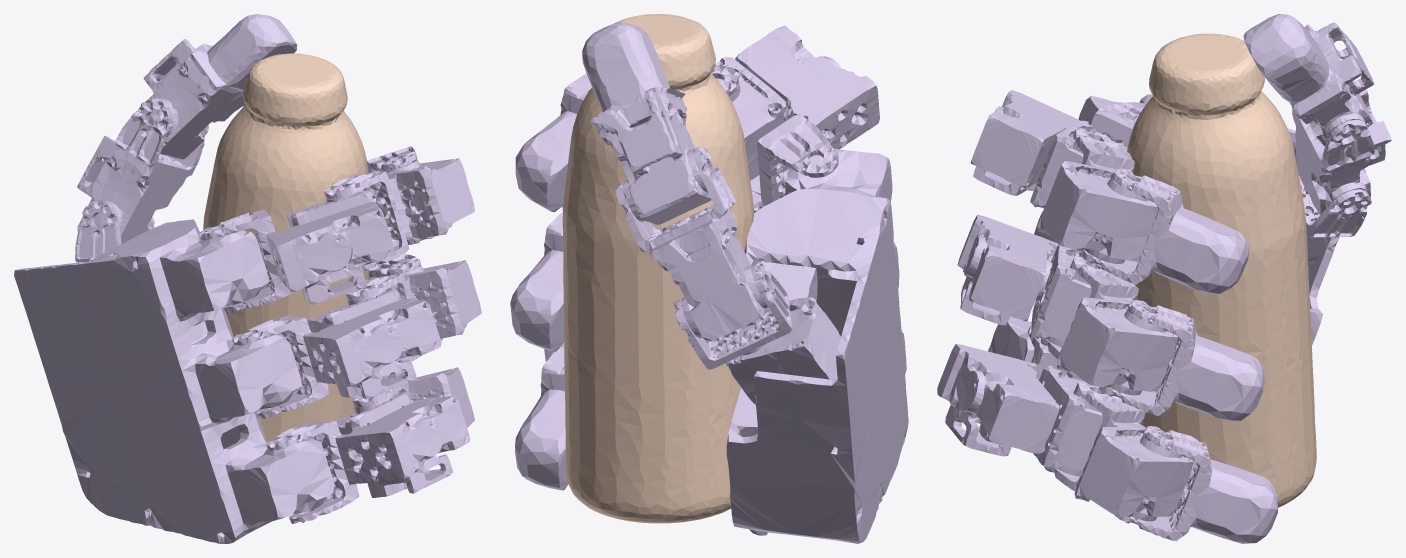
The picture shows the model from 3 angles, left to right: view 1: azimuth 30°, elevation 25°; view 2: azimuth 150°, elevation 25°; view 3: azimuth 270°, elevation 25°; orthographic projection. The views are drawn at different scales.
Parts seen in each view (by area): view 1: LEAP_hand, world; view 2: LEAP_hand, world; view 3: LEAP_hand, world.
Part boxes in pixels (<box>): LEAP_hand: <box>14,14,481,543</box>; world: <box>203,53,369,441</box>; LEAP_hand: <box>510,22,908,543</box>; world: <box>562,14,753,523</box>; LEAP_hand: <box>937,14,1391,543</box>; world: <box>1127,33,1316,507</box>.
Size of the model in its own units: 0.1689 by 0.1992 by 0.1669.
